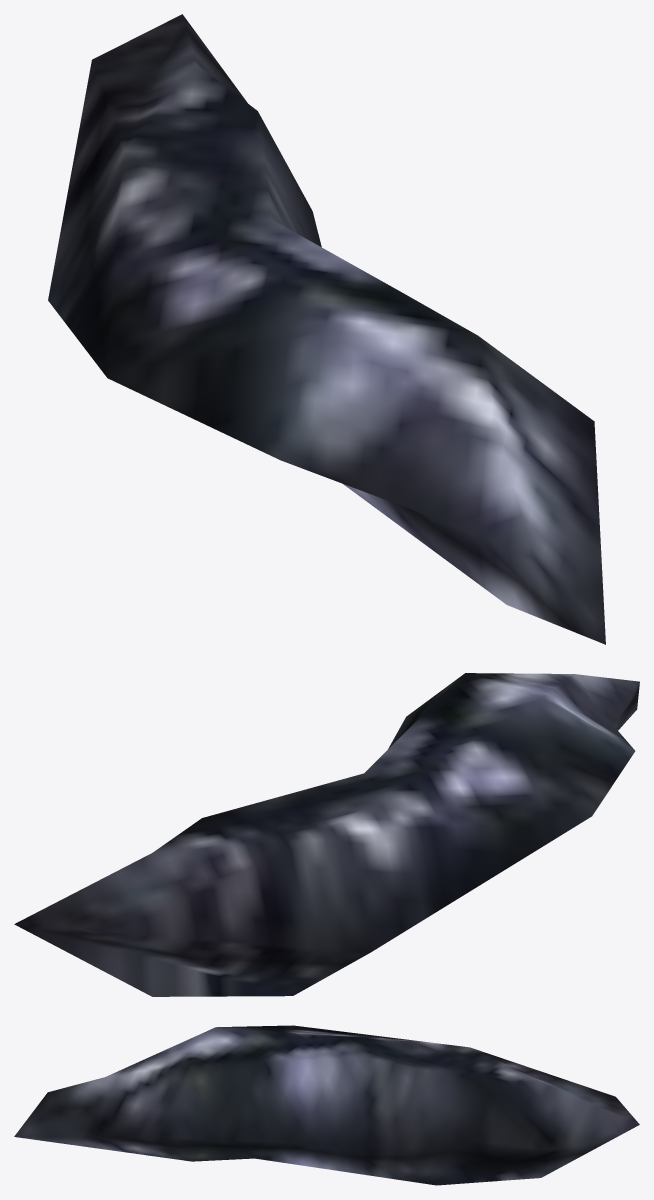
Rendered from nar_condra_7_cone_2.glb.
The picture shows the model from 3 angles, top to bottom: view 1: azimuth 30°, elevation 25°; view 2: azimuth 150°, elevation 25°; view 3: azimuth 270°, elevation 25°; orthographic projection. The views are drawn at different scales.
Parts seen in each view (by area): view 1: model_nar_condra_7_cone_2; view 2: model_nar_condra_7_cone_2; view 3: model_nar_condra_7_cone_2.
Part boxes in pixels (x1,y1,x2,y2): model_nar_condra_7_cone_2: (48,14,605,644); model_nar_condra_7_cone_2: (14,673,639,996); model_nar_condra_7_cone_2: (14,1025,639,1185).
Bounding box in the file's own units: 0.1609 × 0.0956 × 0.4135.
Materials: 1 (1 with a texture image).
